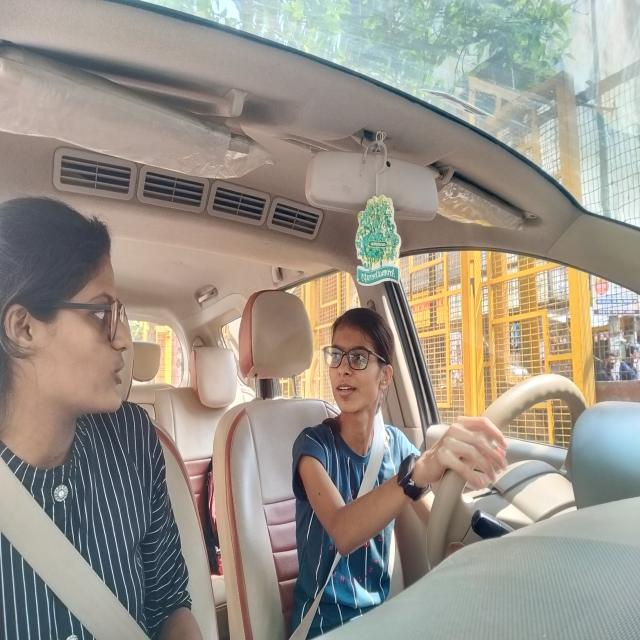LeftRight: (312, 301, 404, 454)
person: (3, 186, 145, 452)
